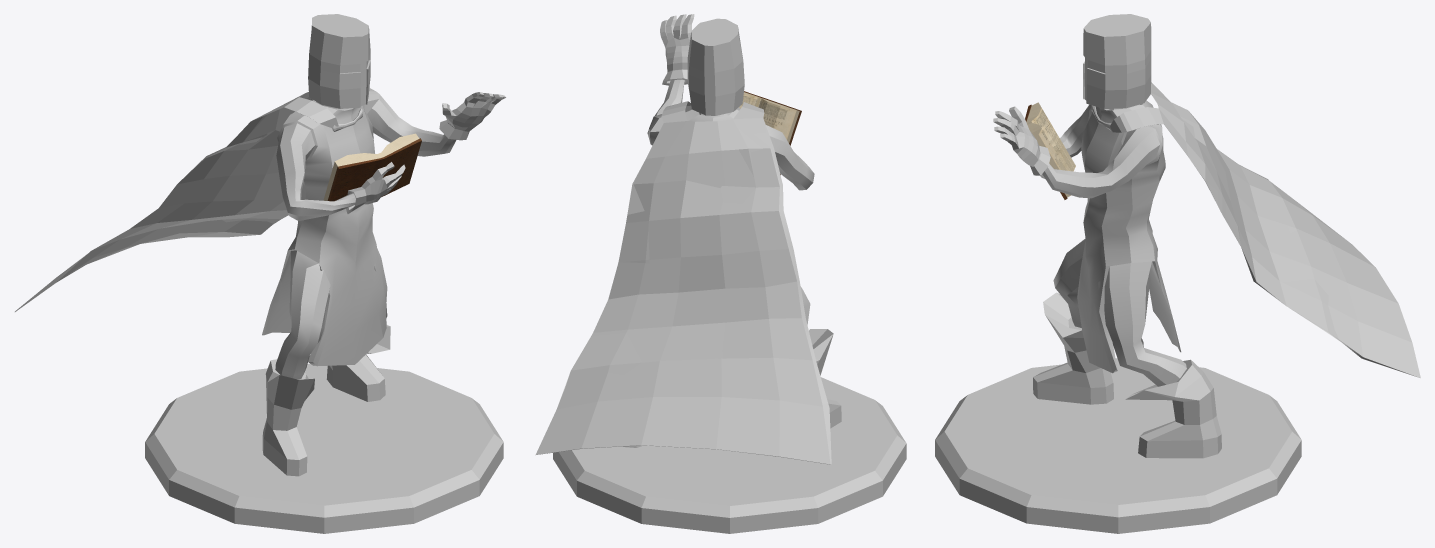
Rendered from Templar_Book.fbx.
3 views of the same model, side by side, from view 1: azimuth 30°, elevation 25°; view 2: azimuth 150°, elevation 25°; view 3: azimuth 270°, elevation 25° (orthographic). The views are drawn at different scales.
Visible parts, largest first — view 1: Base8, Templar_Book, Cape, Book; view 2: Cape, Base8, Templar_Book, Book; view 3: Base8, Templar_Book, Cape, Book.
Boxes of the visible parts, <box> form: Base8: <box>145,363,503,533</box>; Templar_Book: <box>262,14,505,476</box>; Cape: <box>15,88,379,311</box>; Book: <box>323,133,421,201</box>; Cape: <box>535,101,831,464</box>; Base8: <box>553,377,906,533</box>; Templar_Book: <box>623,14,841,447</box>; Book: <box>739,91,801,174</box>; Base8: <box>935,358,1301,533</box>; Templar_Book: <box>993,14,1221,458</box>; Cape: <box>1092,82,1420,378</box>; Book: <box>1025,102,1075,199</box>.
Size of the model in its own units: 233 by 264 by 265.
